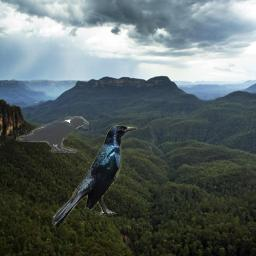Crow: (51, 124, 138, 226), (16, 116, 89, 153)
